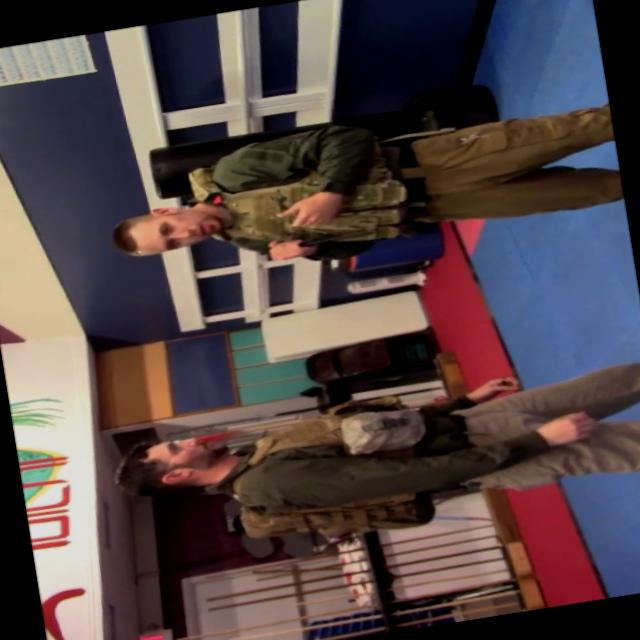knife: (239, 208, 403, 270)
